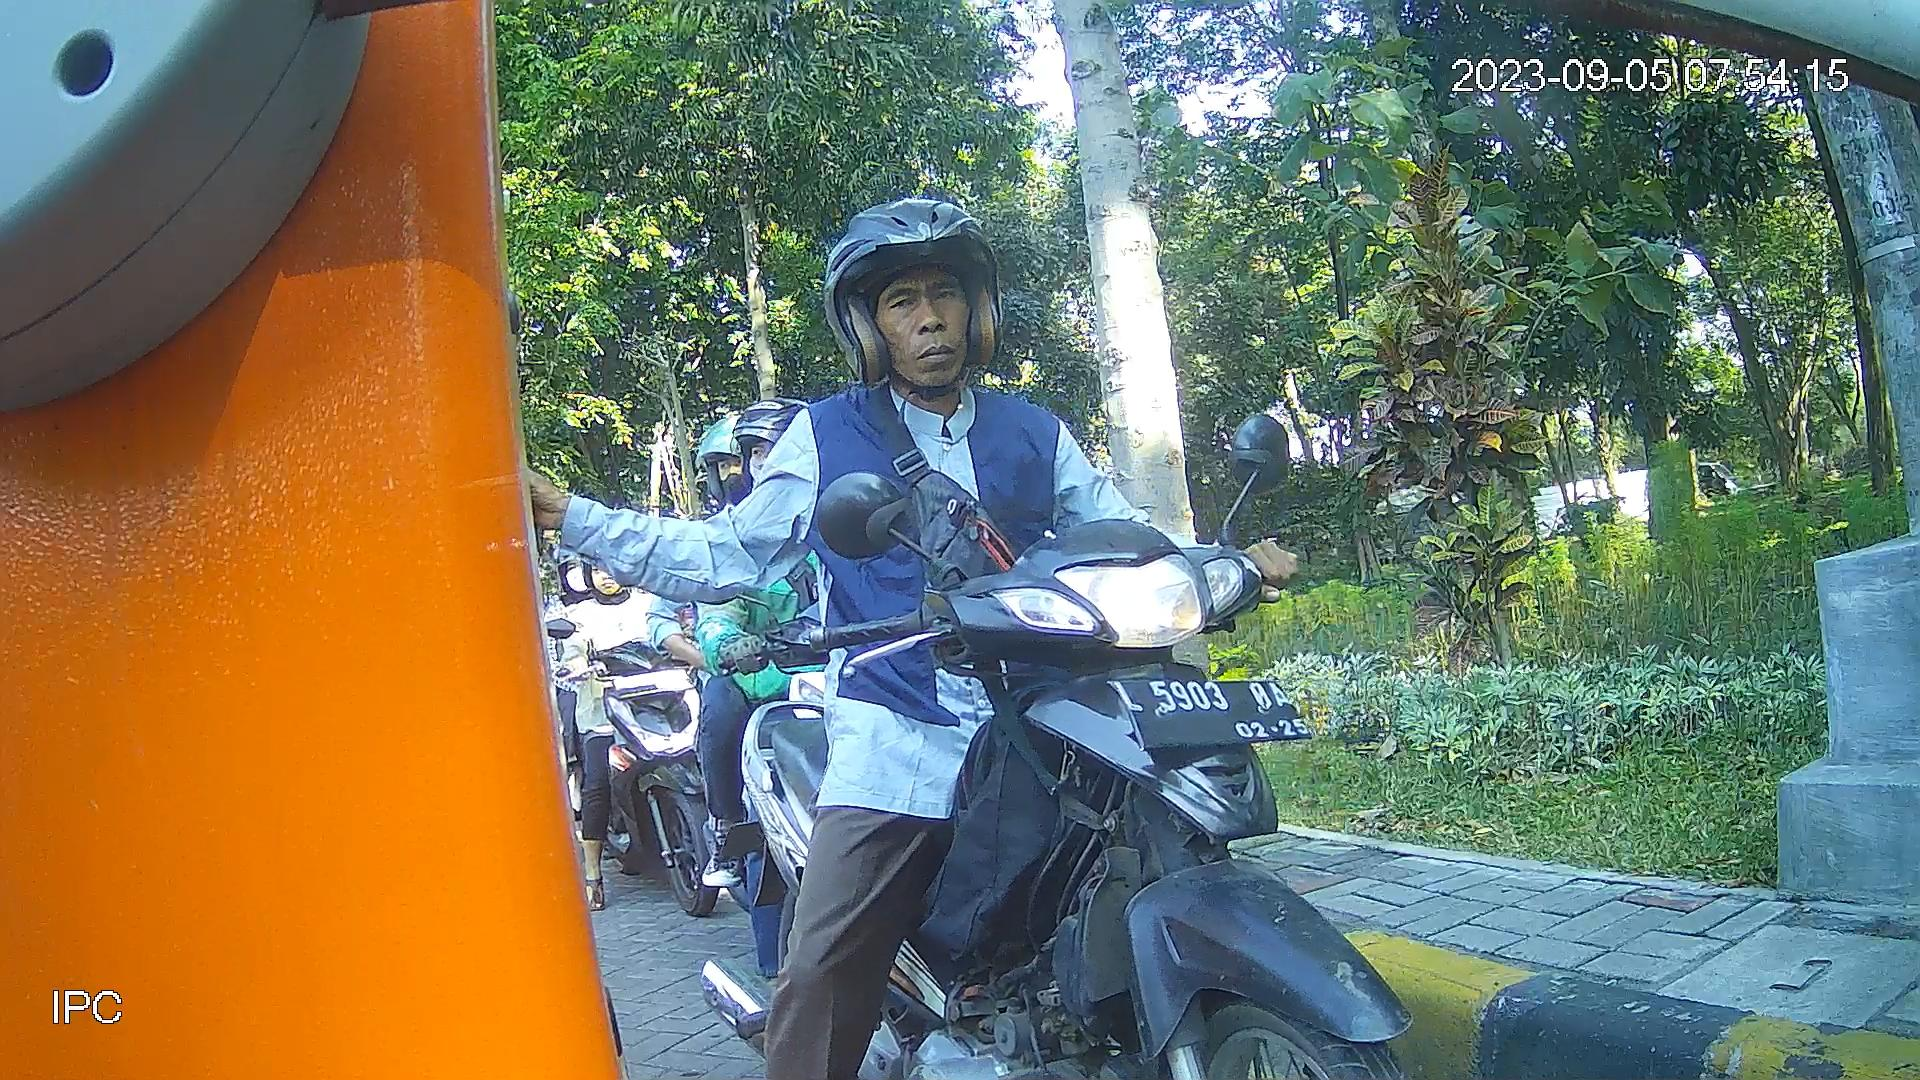plat: (1106, 679, 1316, 753)
